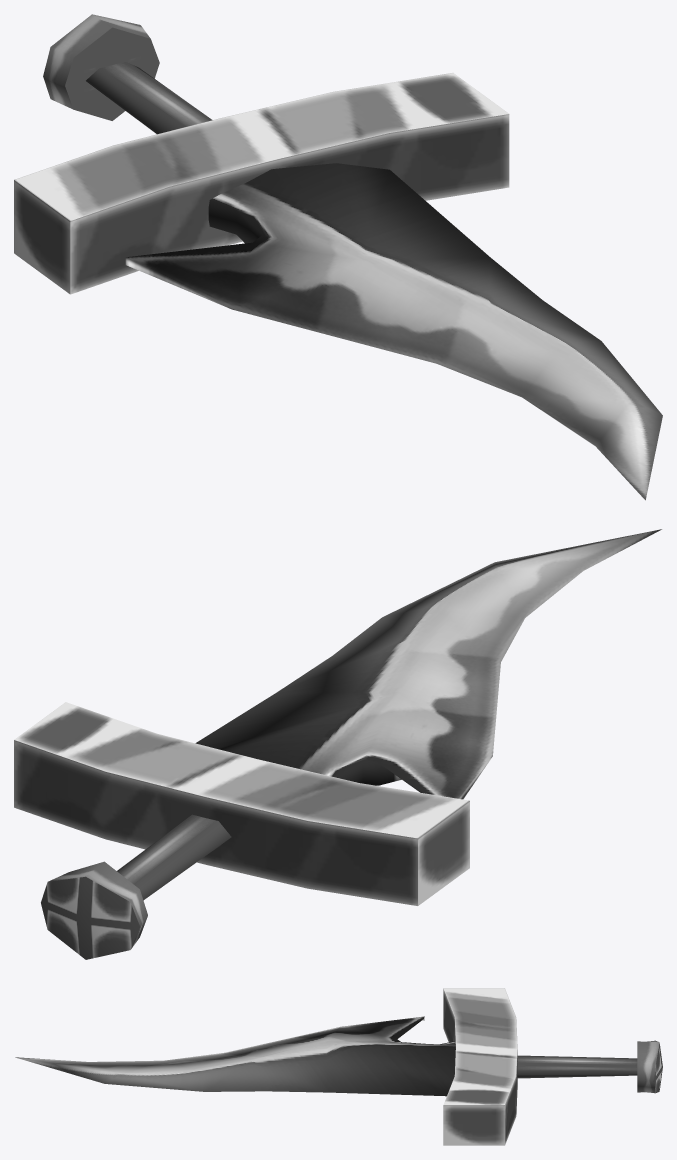
File: dual0014_l.fbx
3 views of the same model, one above another, from view 1: azimuth 30°, elevation 25°; view 2: azimuth 150°, elevation 25°; view 3: azimuth 270°, elevation 25° (orthographic). The views are drawn at different scales.
Visible parts, largest first — view 1: dual0014_m_l; view 2: dual0014_m_l; view 3: dual0014_m_l.
Boxes of the visible parts, left/top/right/bottom form: dual0014_m_l: left=14, top=14, right=662, bottom=500; dual0014_m_l: left=14, top=529, right=661, bottom=959; dual0014_m_l: left=15, top=988, right=662, bottom=1145.
Bounding box in the file's own units: 0.1778 × 0.0363 × 0.4163.
